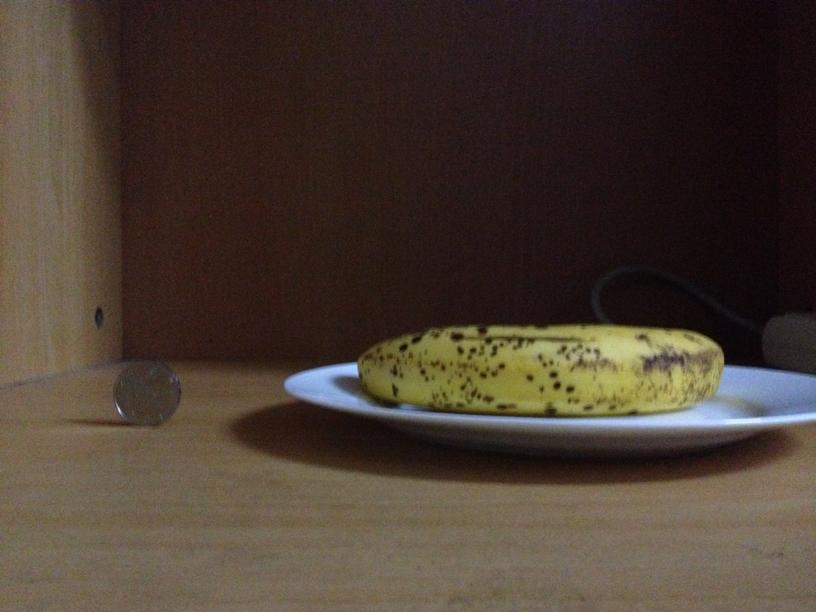banana: (354, 326, 723, 413)
coin: (110, 361, 182, 426)
